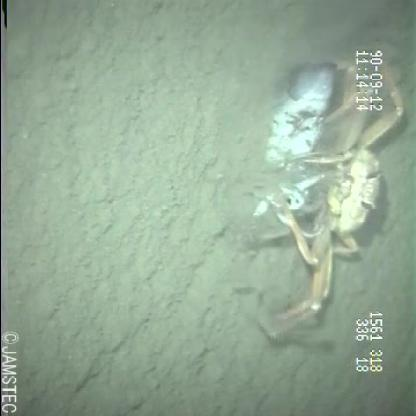Bio: (242, 44, 412, 342)
